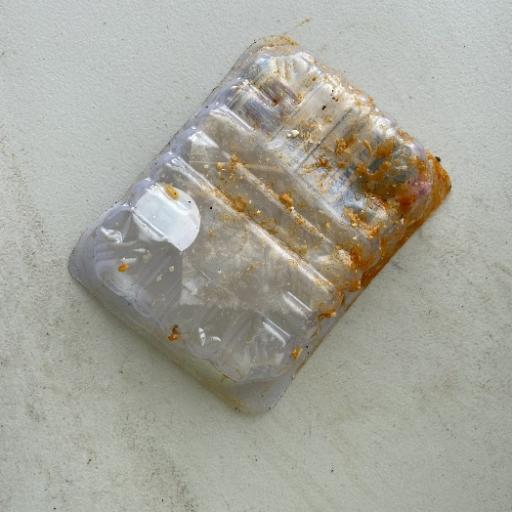Plastic: (66, 33, 452, 416)
